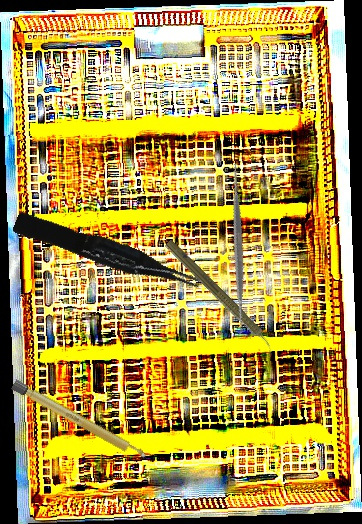Handpiece: (160, 237, 282, 359)
Scalpel Handle: (10, 379, 149, 463)
Spatula Surgical: (148, 158, 328, 339)
Tissue Forceps: (11, 203, 203, 304)
